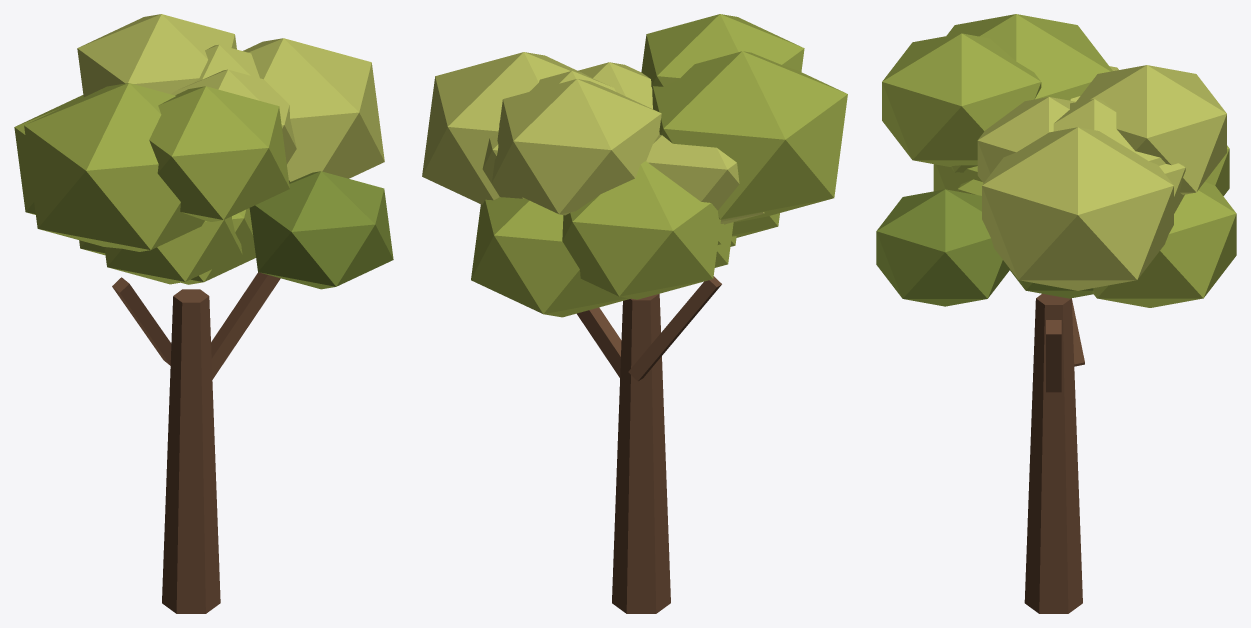
The model's file is tree_round.glb.
3 renders of one model, left to right at view 1: azimuth 30°, elevation 25°; view 2: azimuth 150°, elevation 25°; view 3: azimuth 270°, elevation 25°, orthographic.
Parts seen in each view (by area): view 1: tree_round; view 2: tree_round; view 3: tree_round.
Part boxes in pixels (x1,y1,x2,y2): tree_round: (14,14,393,613); tree_round: (422,14,847,613); tree_round: (876,14,1236,613).
Bounding box in the file's own units: 3.73 × 5.46 × 3.21.
